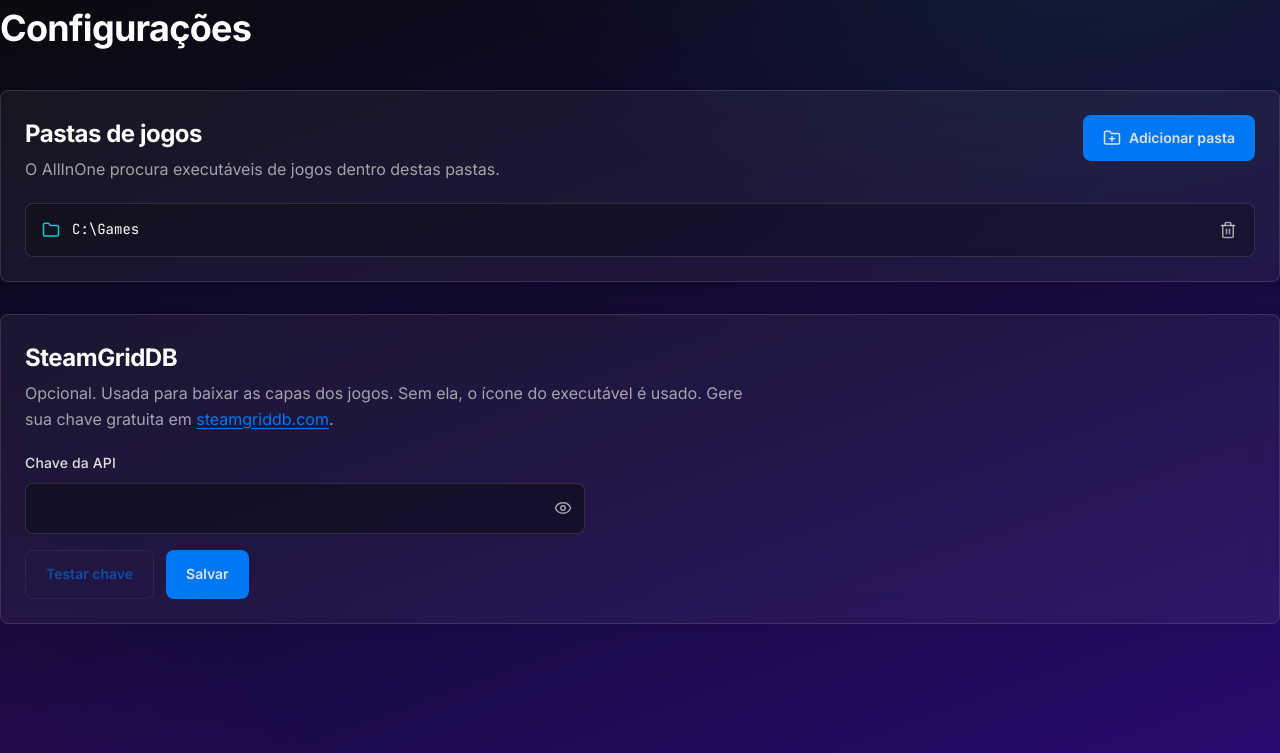
Test: Settings › game folders › removes a folder
What coordinates should you click on to do the following:
click the button named "Remover C:\\Games"
I would click on:
 (1228, 230)
Its box is [1210,212,1246,248].
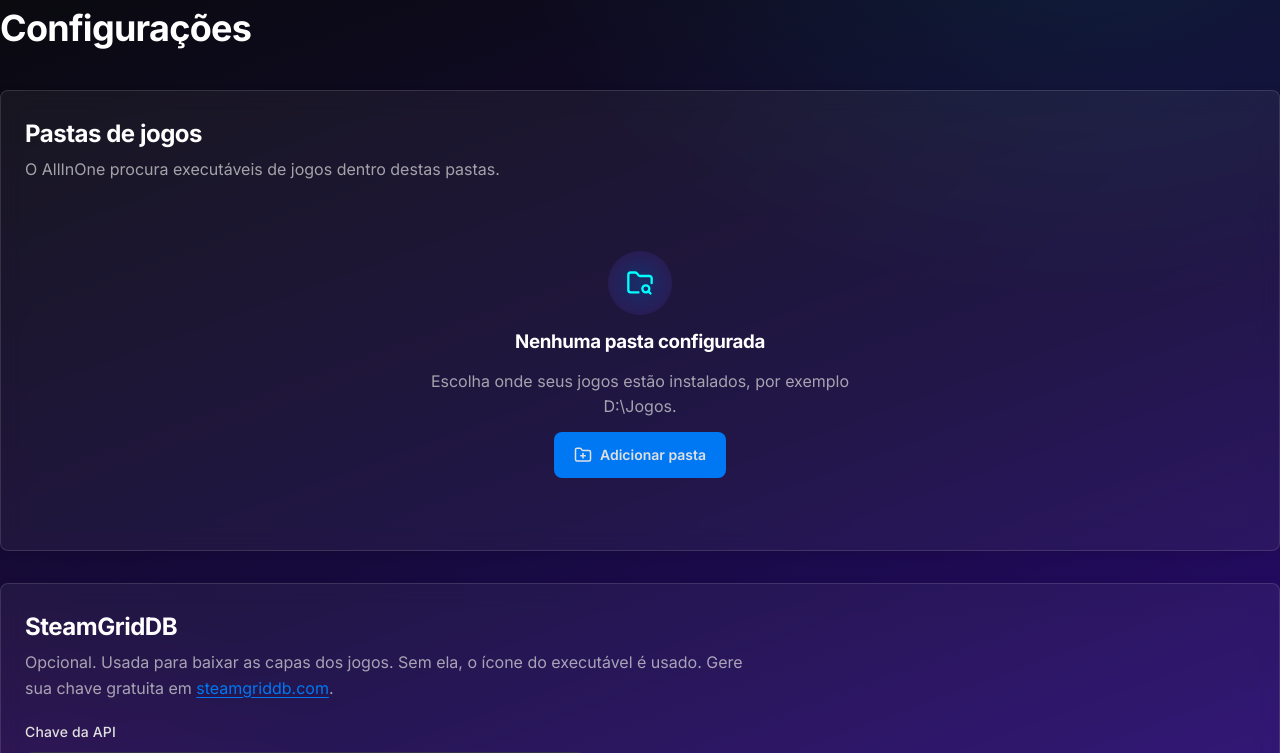
Expected: the text "C:\\Games" is gone
